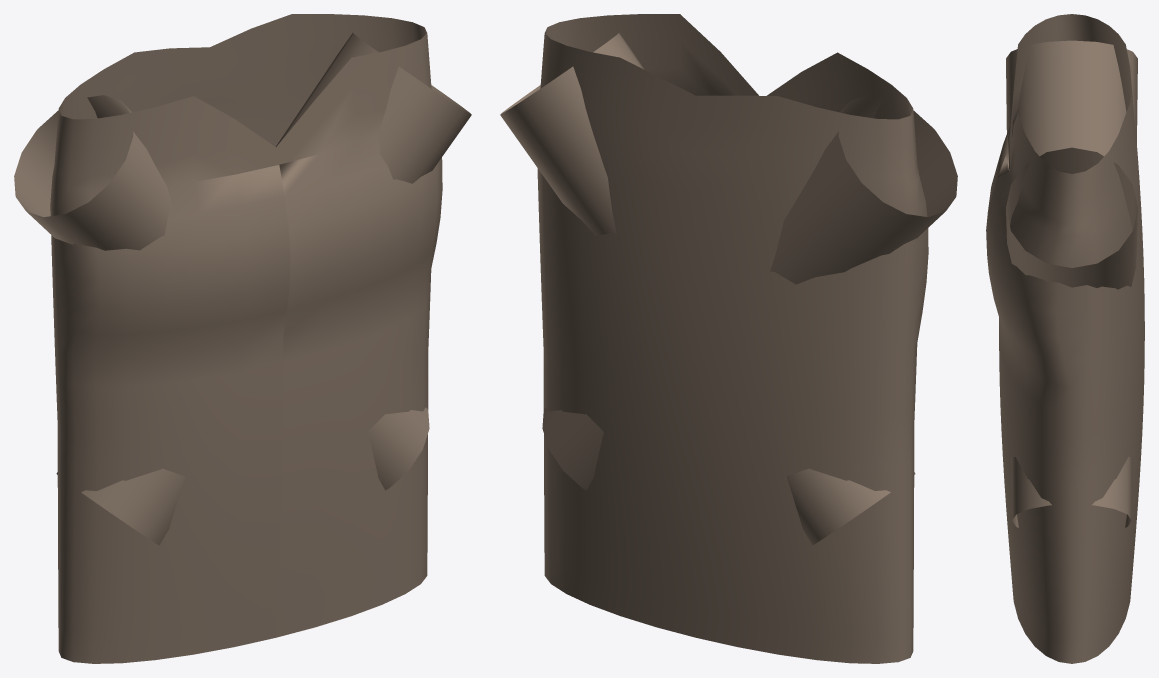
3 views of the same model, side by side, from view 1: azimuth 30°, elevation 25°; view 2: azimuth 150°, elevation 25°; view 3: azimuth 270°, elevation 25° (orthographic). The views are drawn at different scales.
Parts seen in each view (by area): view 1: torso, right_sleeve, left_sleeve; view 2: torso, right_sleeve, left_sleeve; view 3: torso, right_sleeve, left_sleeve.
Part boxes in pixels (<box>): torso: <box>50,14,442,663</box>; right_sleeve: <box>14,95,429,490</box>; left_sleeve: <box>56,33,471,545</box>; torso: <box>537,14,928,663</box>; right_sleeve: <box>542,95,957,490</box>; left_sleeve: <box>500,33,915,545</box>; torso: <box>986,14,1144,663</box>; right_sleeve: <box>1006,40,1137,527</box>; left_sleeve: <box>1006,147,1137,289</box>.
Size of the model in its own units: 0.528 by 0.6491 by 0.1851.
